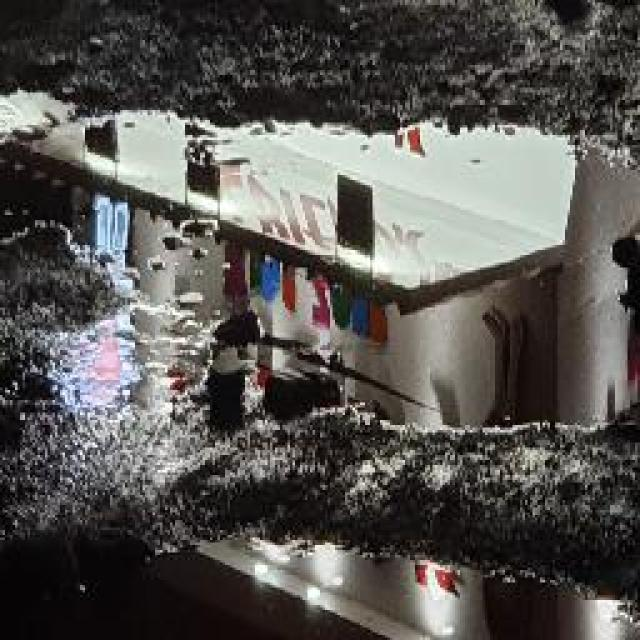stagnation: (23, 80, 640, 446)
